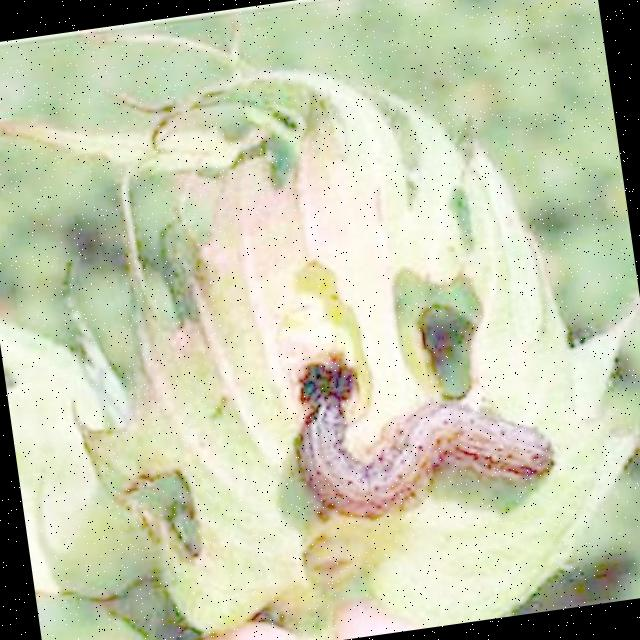worm: (1, 1, 640, 640), (282, 326, 562, 531)
